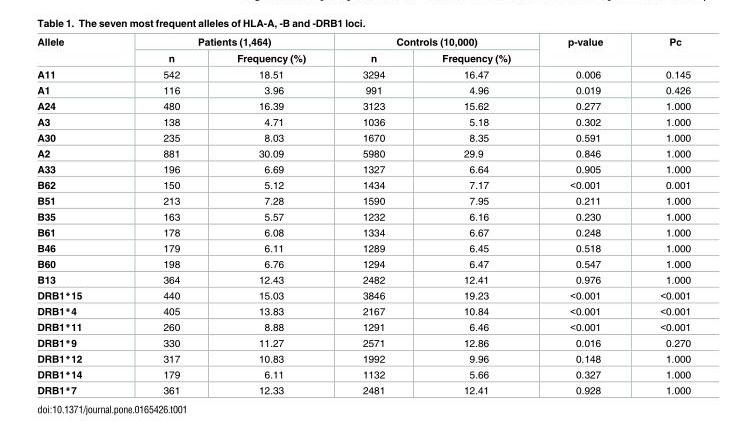table: (36, 36, 690, 395)
table column: (207, 36, 333, 395), (412, 36, 538, 395), (538, 36, 630, 395), (121, 36, 207, 395), (36, 36, 121, 395), (333, 36, 412, 395), (630, 36, 690, 395)
table column header: (36, 36, 690, 66)
table row: (36, 176, 690, 193), (36, 50, 690, 66), (36, 66, 690, 82), (36, 82, 690, 98), (36, 98, 690, 114), (36, 114, 690, 130), (36, 145, 690, 161), (36, 208, 690, 224), (36, 224, 690, 240), (36, 240, 690, 256), (36, 256, 690, 272), (36, 286, 690, 302), (36, 302, 690, 318), (36, 318, 690, 334), (36, 334, 690, 350), (36, 365, 690, 381), (36, 130, 690, 145), (36, 161, 690, 176), (36, 193, 690, 208), (36, 350, 690, 365), (36, 36, 690, 50), (36, 272, 690, 286), (36, 381, 690, 395)
table spanning cell: (121, 36, 333, 50), (333, 36, 538, 50), (538, 36, 630, 66), (36, 36, 121, 66), (630, 36, 690, 66)
